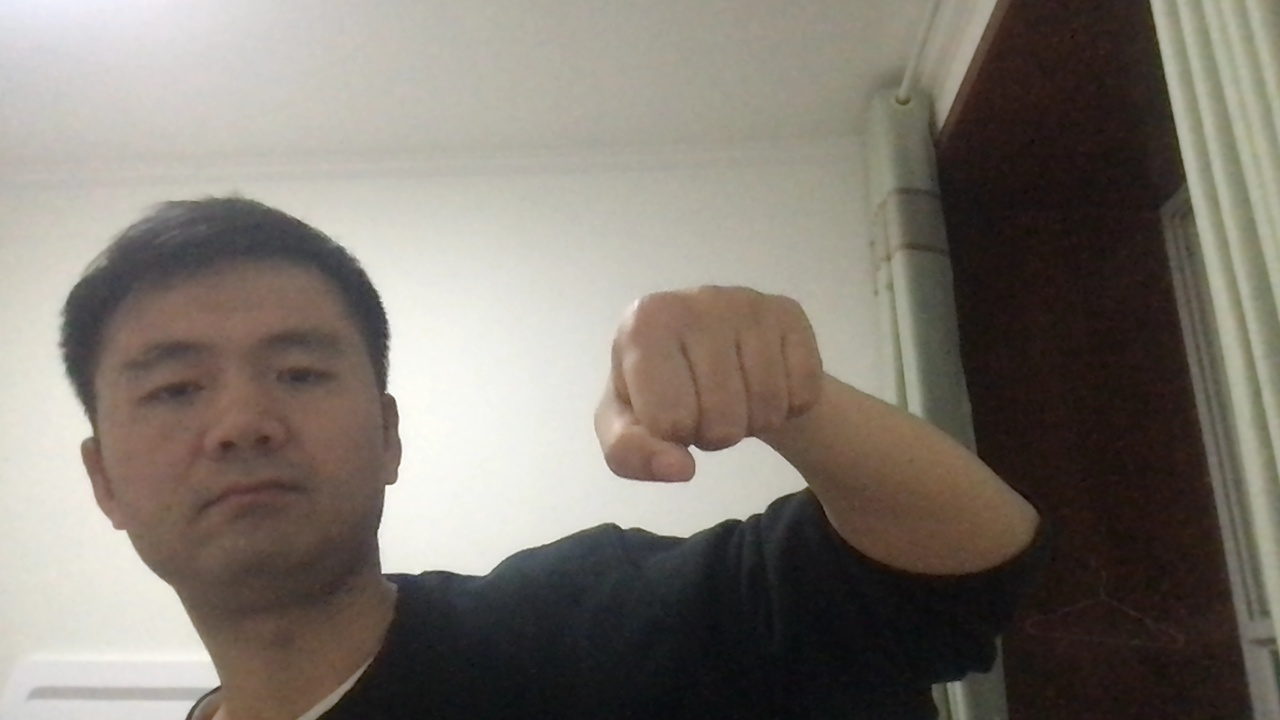ok: (573, 279, 846, 500)
